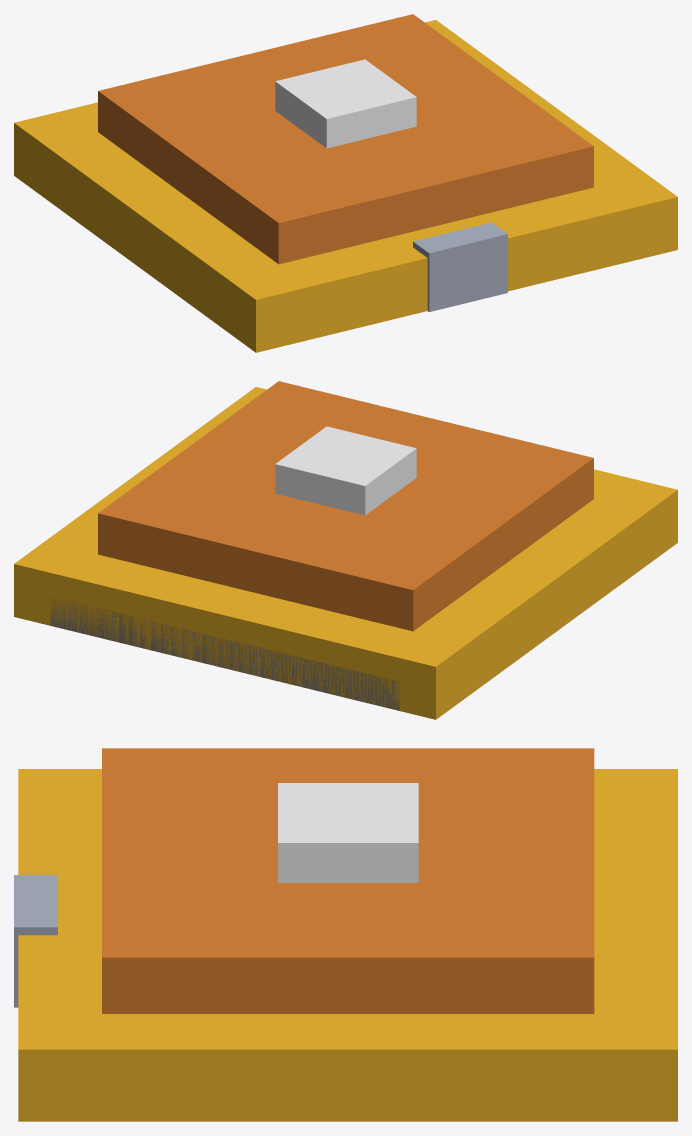
File: gamble_box_lid.glb
3 views of the same model, one above another, from view 1: azimuth 30°, elevation 25°; view 2: azimuth 150°, elevation 25°; view 3: azimuth 270°, elevation 25° (orthographic). The views are drawn at different scales.
Visible parts, largest first — view 1: gamble_box_lid; view 2: gamble_box_lid; view 3: gamble_box_lid.
Part boxes in pixels (x1,y1,x2,y2): gamble_box_lid: (14, 14, 677, 352); gamble_box_lid: (14, 381, 677, 719); gamble_box_lid: (14, 748, 677, 1121).
Bounding box in the file's own units: 0.75 × 0.21 × 0.75.
